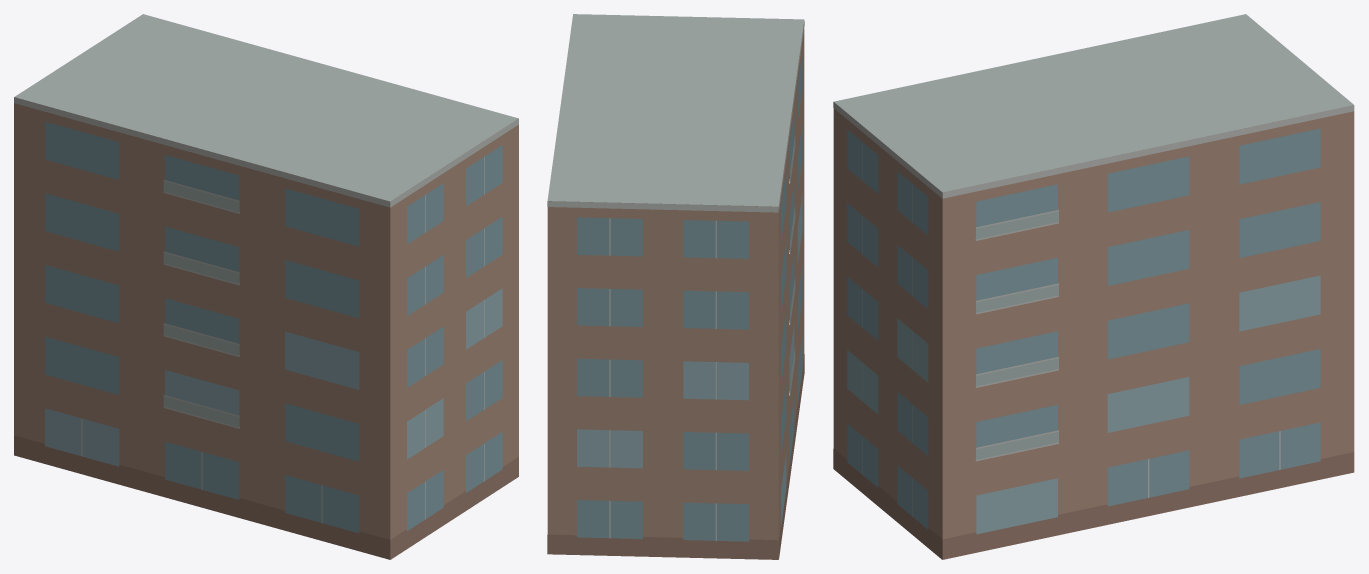
Rendered from survey-upis-32658018.glb.
3 renders of one model, left to right at view 1: azimuth 30°, elevation 25°; view 2: azimuth 150°, elevation 25°; view 3: azimuth 270°, elevation 25°, orthographic. The views are drawn at different scales.
Visible parts, largest first — view 1: survey-upis-32658018.tmp; view 2: survey-upis-32658018.tmp; view 3: survey-upis-32658018.tmp.
Part boxes in pixels (left/top/right/bottom): survey-upis-32658018.tmp: left=14, top=14, right=518, bottom=559; survey-upis-32658018.tmp: left=547, top=14, right=804, bottom=559; survey-upis-32658018.tmp: left=833, top=14, right=1354, bottom=559.
Size of the model in its own units: 15.01 by 14.4 by 18.51.
